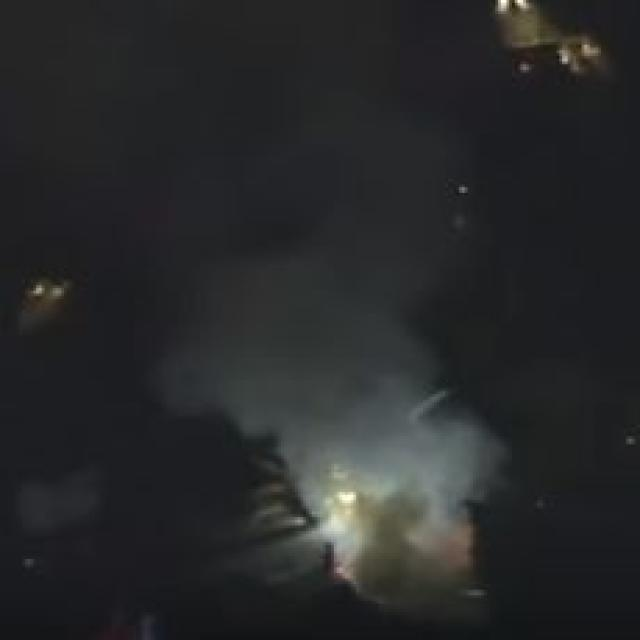Smoke: (175, 97, 522, 530)
